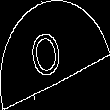O_S: (35, 23, 75, 87)
